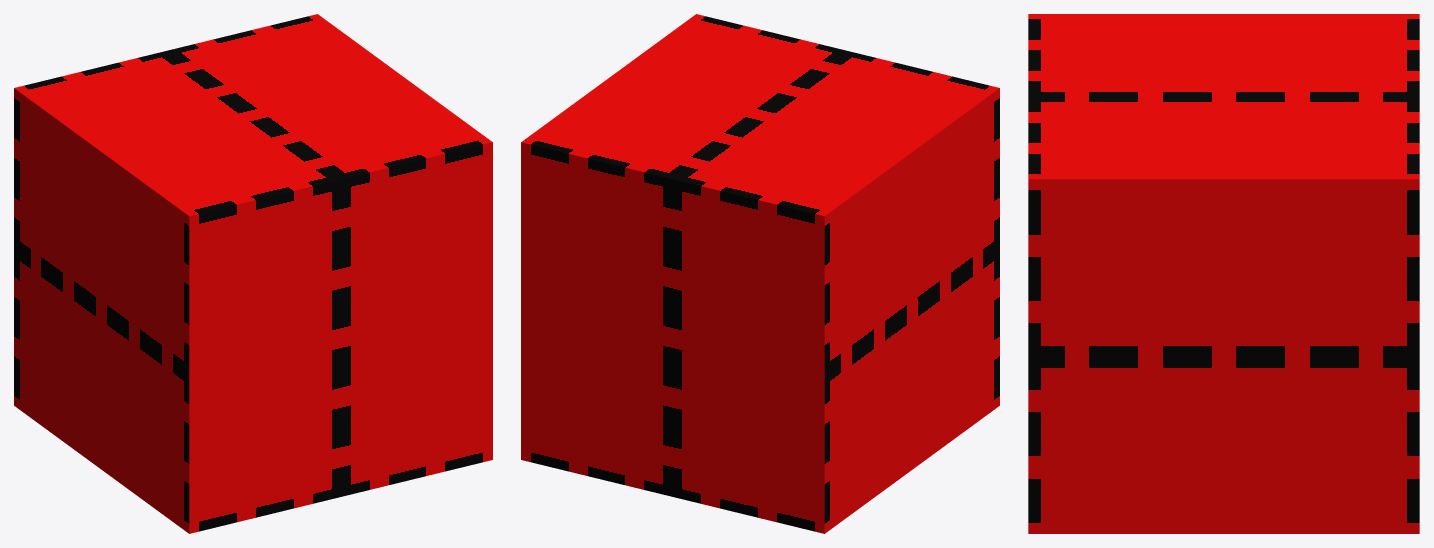
File: hatena_karabox.glb
3 renders of one model, left to right at view 1: azimuth 30°, elevation 25°; view 2: azimuth 150°, elevation 25°; view 3: azimuth 270°, elevation 25°, orthographic. The views are drawn at different scales.
Visible parts, largest first — view 1: hatena_karabox; view 2: hatena_karabox; view 3: hatena_karabox.
Part boxes in pixels (x1=…): hatena_karabox: x1=14, y1=14, x2=492, y2=533; hatena_karabox: x1=521, y1=14, x2=999, y2=533; hatena_karabox: x1=1028, y1=14, x2=1419, y2=533.
Size of the model in its own units: 18.75 by 18.75 by 18.75.
Materials: 2 (2 with a texture image).
